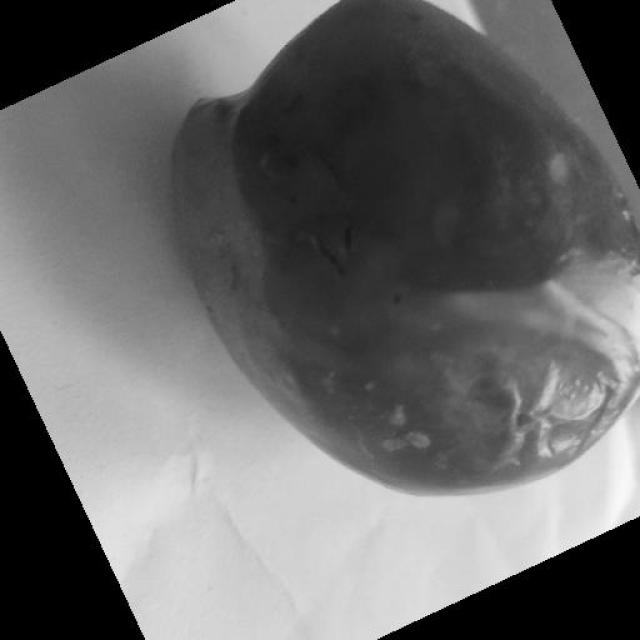Stale_tomato: (158, 64, 614, 467)
